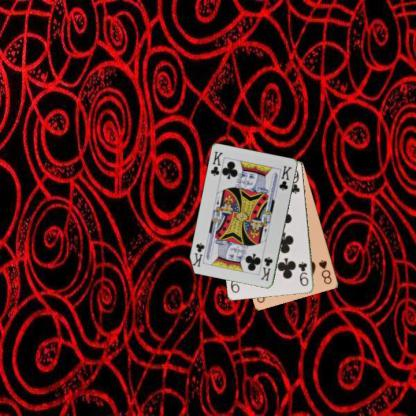8s: (316, 257, 333, 286)
9c: (296, 260, 310, 287)
Kc: (208, 148, 224, 178), (258, 254, 274, 282)
